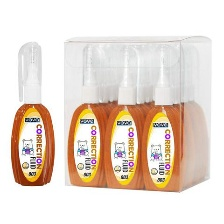book: (61, 34, 215, 195)
correction_fluid: (139, 41, 188, 192), (9, 39, 56, 187), (101, 42, 146, 191), (65, 42, 110, 188)
